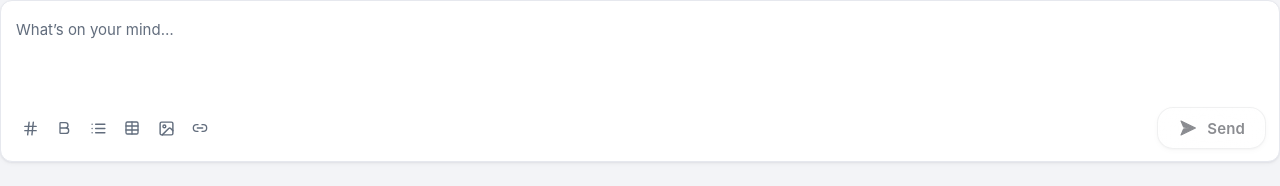
Editor tag suggestions follow the caret › keeps the rest of a Chinese sentence when a tag is completed inside it
Step 1. Type "今天读了很好看的书" into the dropdown named "Memo content" → (640, 49), box [14,15,1266,83]
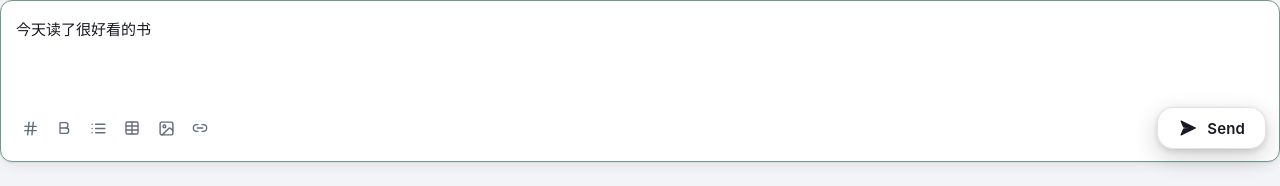
Step 2. Type keys "#书"
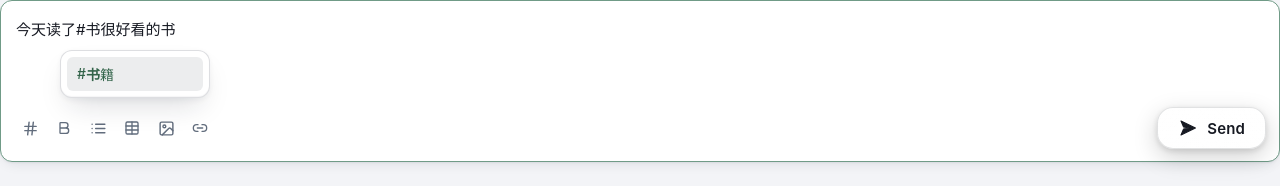
Expected: the dropdown named "Memo content" holds "今天读了#书很好看的书", [14,15,1266,83]
Step 3. Press Enter
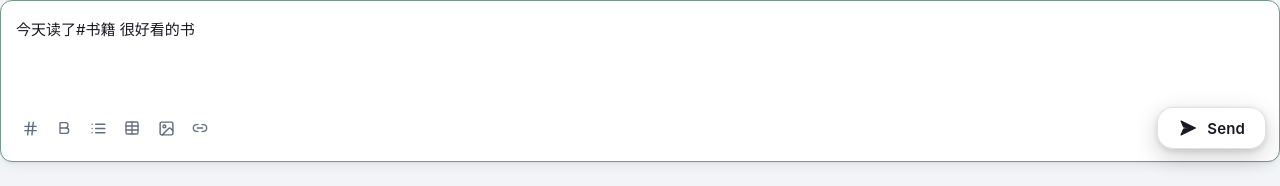
Expected: the dropdown named "Memo content" holds "今天读了#书籍 很好看的书", [14,15,1266,83]
